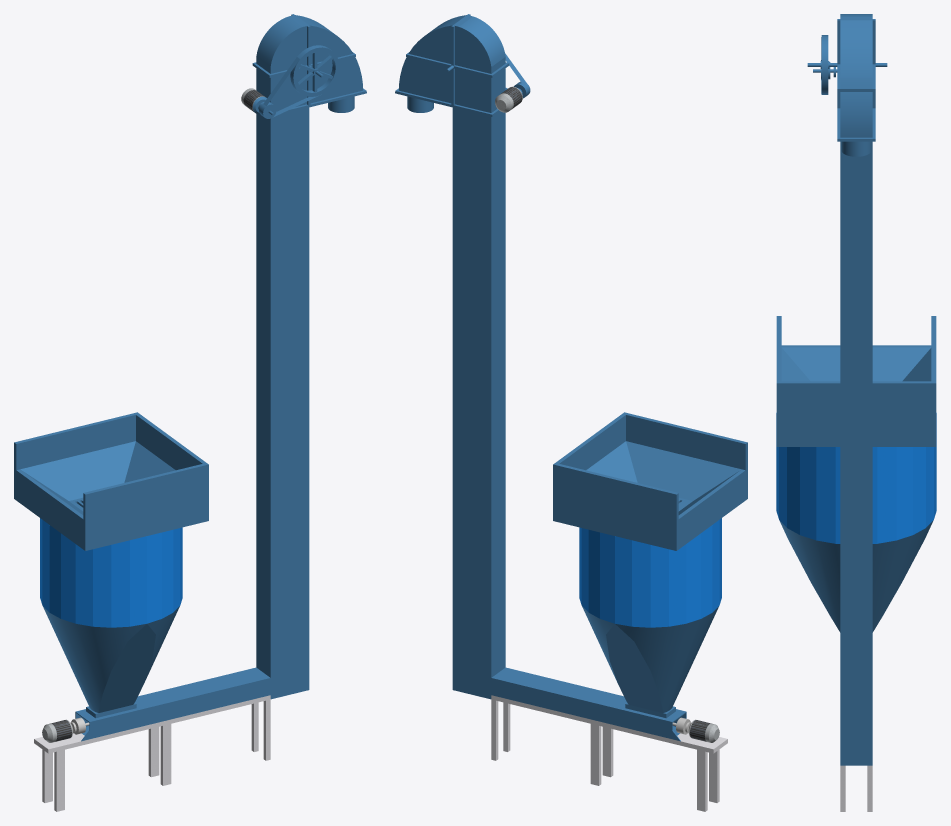
3 renders of one model, left to right at view 1: azimuth 30°, elevation 25°; view 2: azimuth 150°, elevation 25°; view 3: azimuth 270°, elevation 25°, orthographic. The views are drawn at different scales.
Visible parts, largest first — view 1: root; view 2: root; view 3: root.
Boxes of the visible parts, <box> form: root: <box>14,14,366,811</box>; root: <box>395,14,747,811</box>; root: <box>776,14,936,811</box>.
Bounding box in the file's own units: 4.11 × 8.98 × 1.6.
Materials: 6 (3 with a texture image).
